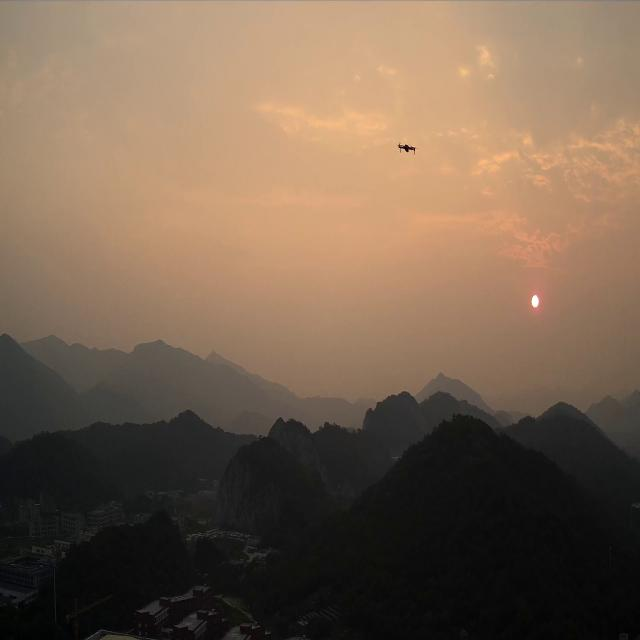UAV: (397, 141, 418, 156)
